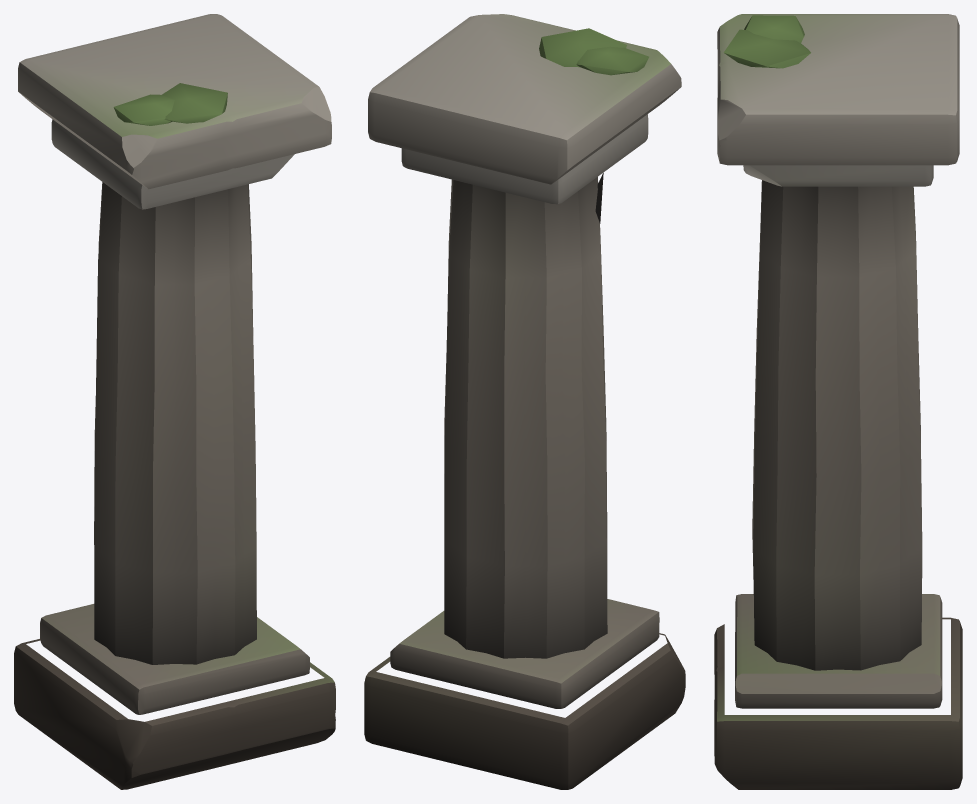
File: ruins-column-v3.glb
The picture shows the model from 3 angles, left to right: view 1: azimuth 30°, elevation 25°; view 2: azimuth 150°, elevation 25°; view 3: azimuth 270°, elevation 25°; orthographic projection. The views are drawn at different scales.
Parts seen in each view (by area): view 1: 0_ruins_column; view 2: 0_ruins_column; view 3: 0_ruins_column.
Part boxes in pixels (x1,y1,x2,y2): 0_ruins_column: (14,14,335,789); 0_ruins_column: (364,14,685,789); 0_ruins_column: (714,14,962,789).
Bounding box in the file's own units: 0.86 × 2.61 × 0.8559.
